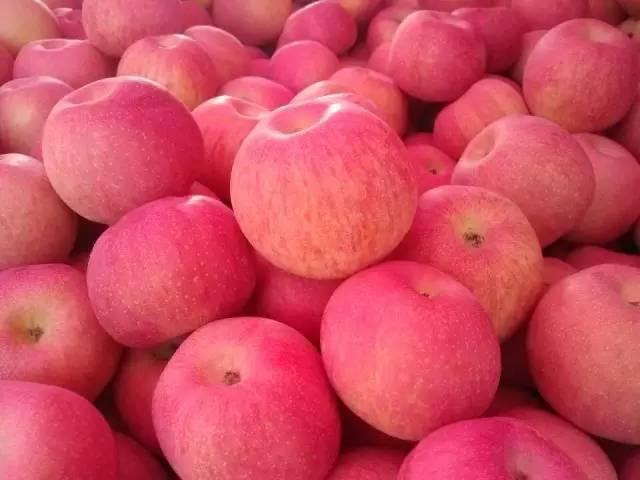apple: (226, 96, 423, 283), (319, 267, 491, 445), (152, 314, 339, 476), (84, 192, 255, 349), (40, 76, 206, 225), (389, 183, 546, 338), (525, 263, 639, 446), (451, 112, 596, 251), (1, 262, 122, 401), (519, 17, 636, 132), (3, 377, 120, 479), (388, 9, 486, 104), (2, 151, 76, 266), (562, 132, 637, 242), (433, 79, 528, 158), (192, 95, 264, 199), (113, 34, 216, 105), (12, 38, 109, 91), (269, 39, 337, 90)
